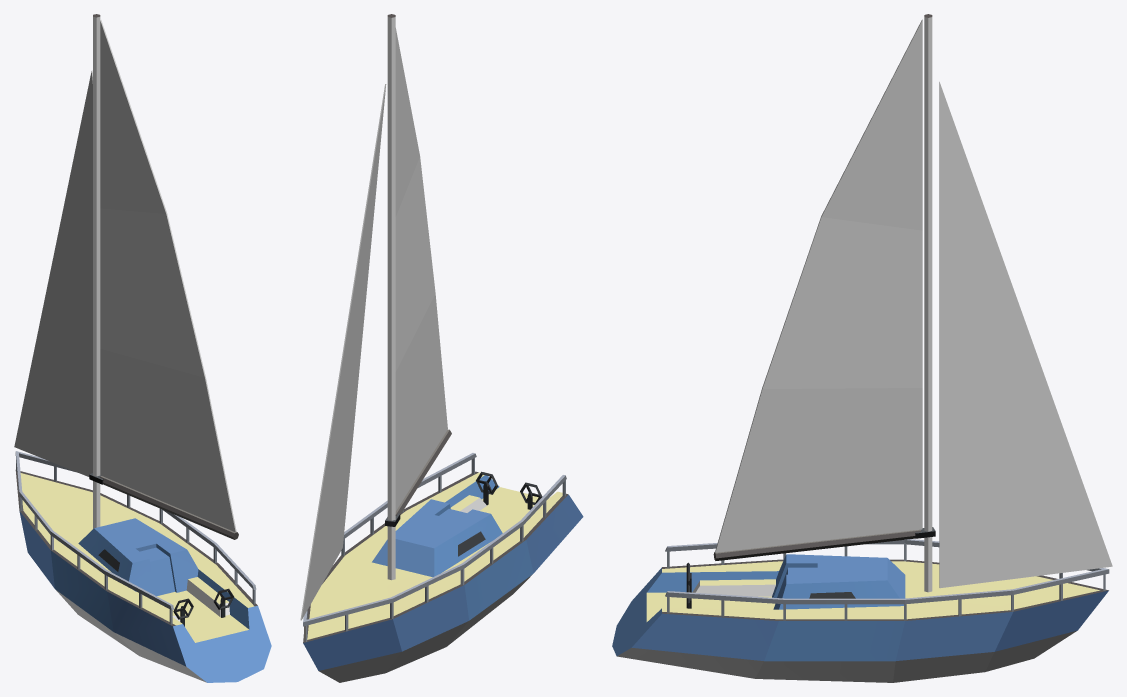
File: Sailboat002.fbx
3 views of the same model, side by side, from view 1: azimuth 30°, elevation 25°; view 2: azimuth 150°, elevation 25°; view 3: azimuth 270°, elevation 25° (orthographic). The views are drawn at different scales.
Parts seen in each view (by area): view 1: polySurface2580; view 2: polySurface2580; view 3: polySurface2580.
Boxes of the visible parts, x1,y1,x2,y2 form: polySurface2580: (14,14,271,682); polySurface2580: (300,14,583,682); polySurface2580: (612,14,1112,682).
Bounding box in the file's own units: 239 × 1192 × 825.
